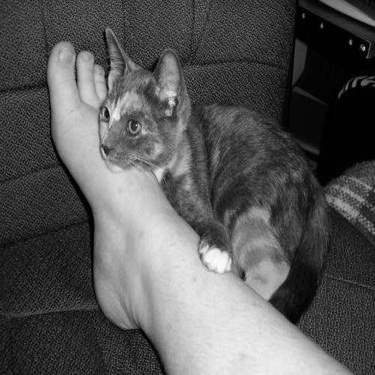cat: (84, 10, 338, 319)
